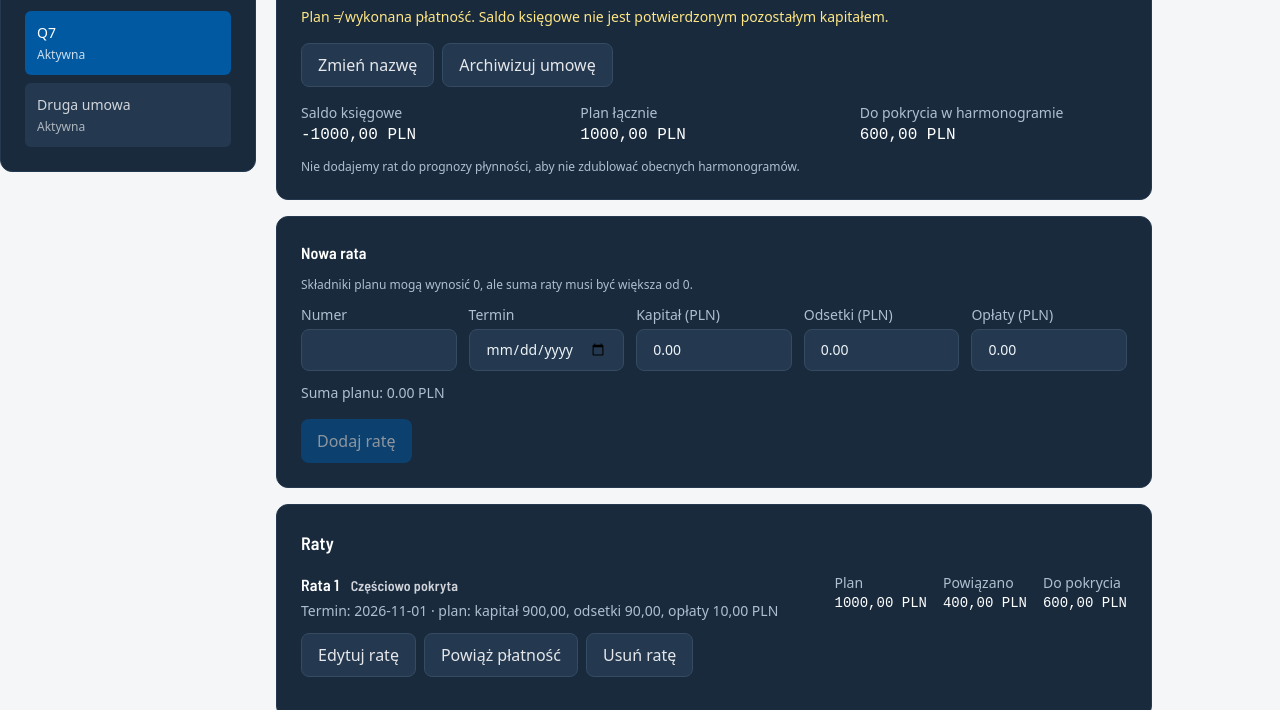
Test: FinanceLoans › resets the create form after success and when selecting another agreement
(page scrolled)
Type "2" into the number field labelled "Numer" at (379, 350), box x1=301 y1=329 x2=457 y2=371
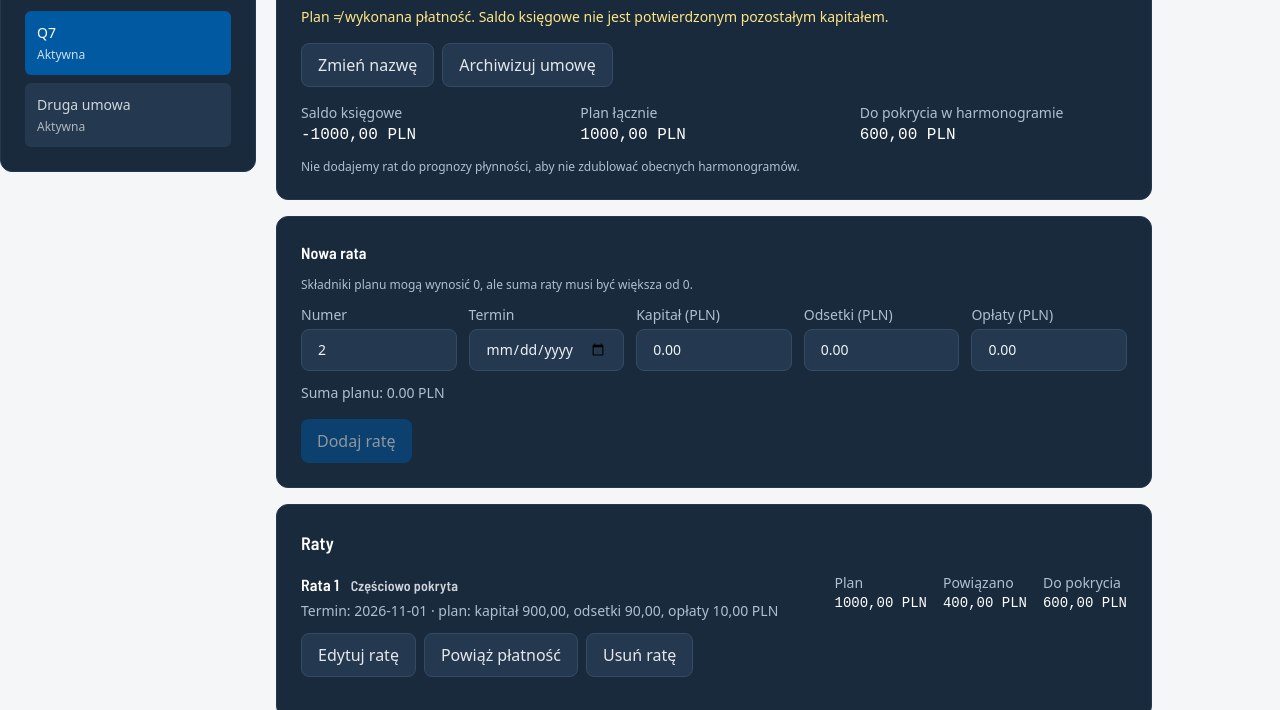
Type "2026-12-01" into the date field labelled "Termin" at (546, 350), box x1=469 y1=329 x2=624 y2=371
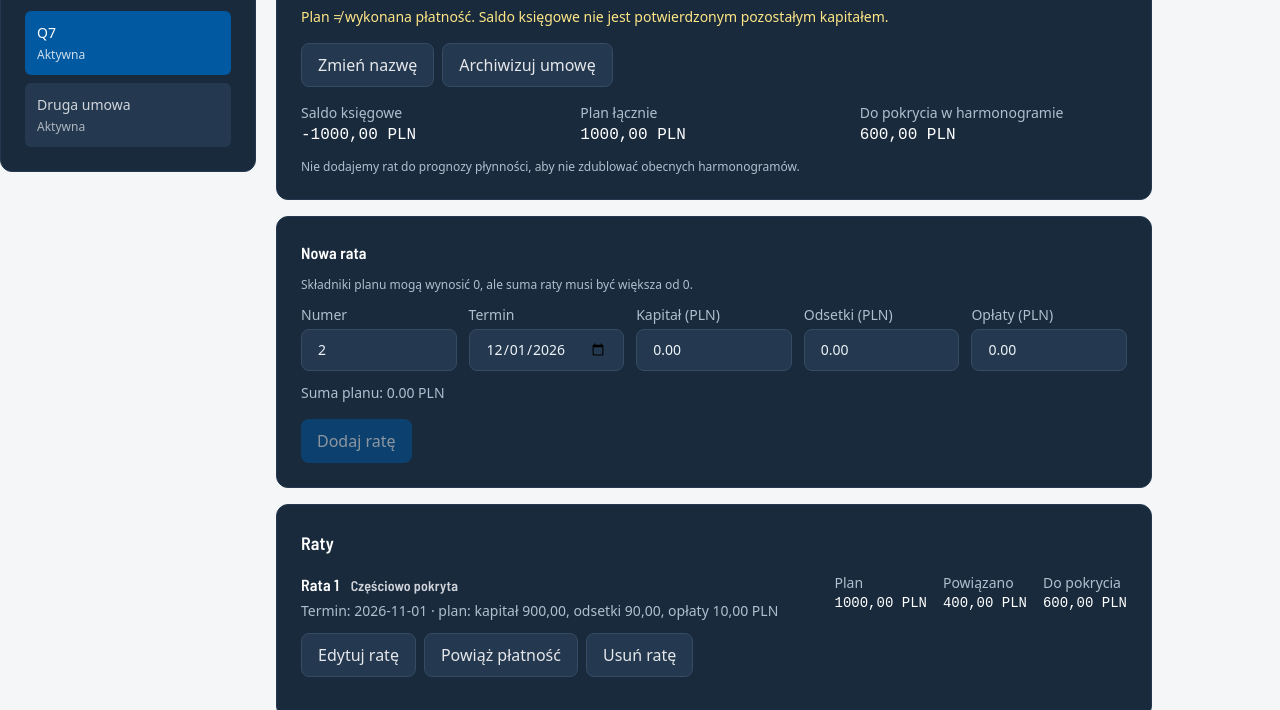
Replace the text in the field labelled "Kapitał (PLN)" with "900" at (714, 350), box x1=636 y1=329 x2=792 y2=371
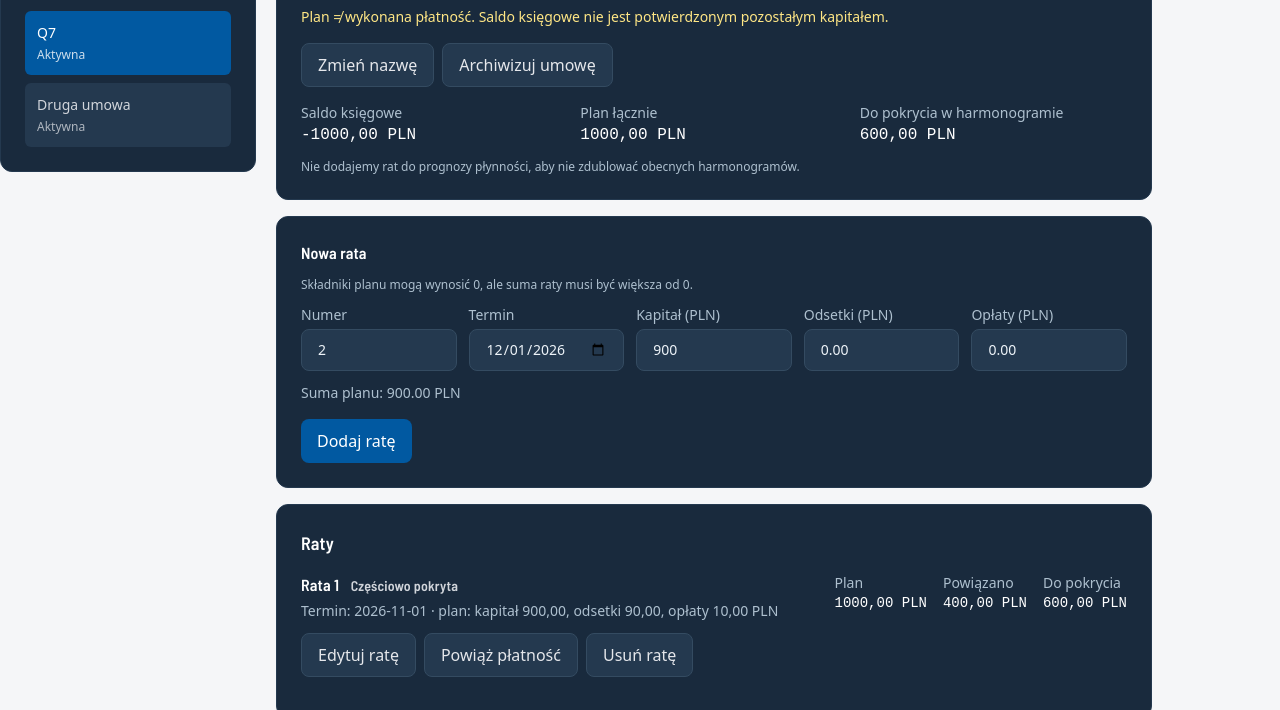
Click the button "Dodaj ratę" at (356, 441), box x1=301 y1=419 x2=412 y2=463
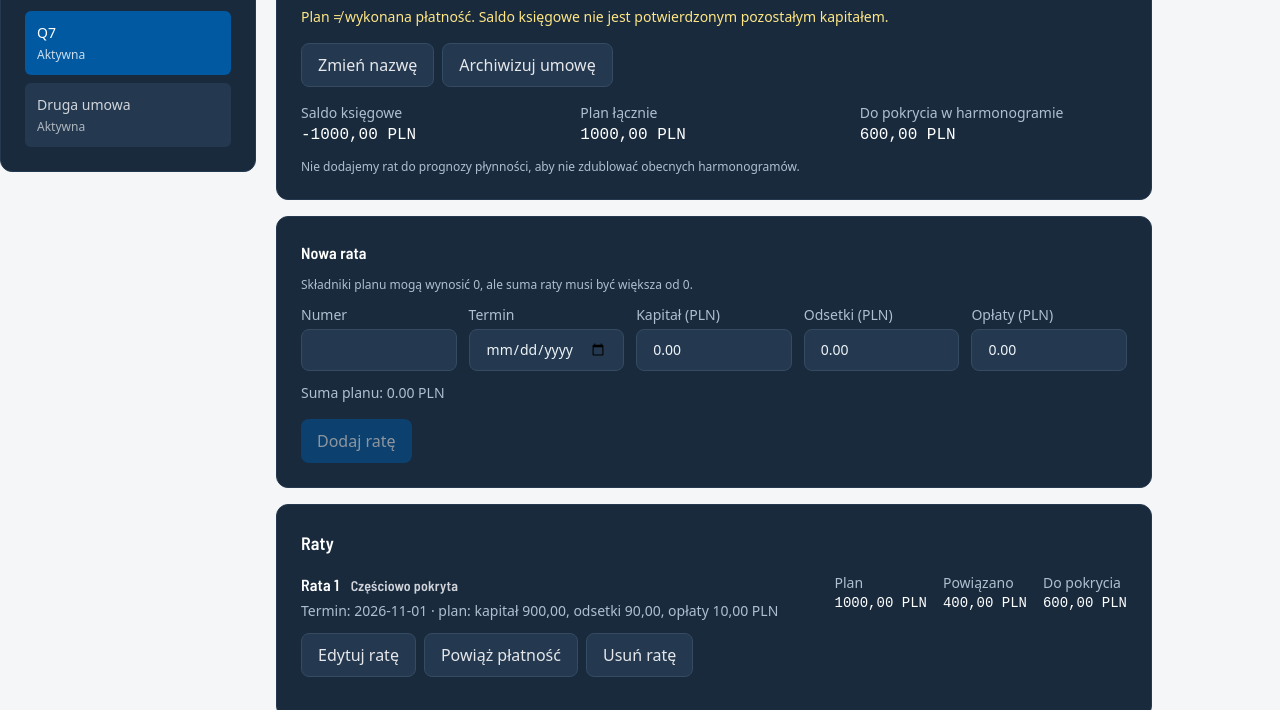
Expected: the field labelled "Kapitał (PLN)" holds "0.00"
Replace the text in the field labelled "Kapitał (PLN)" with "800" at (714, 350), box x1=636 y1=329 x2=792 y2=371
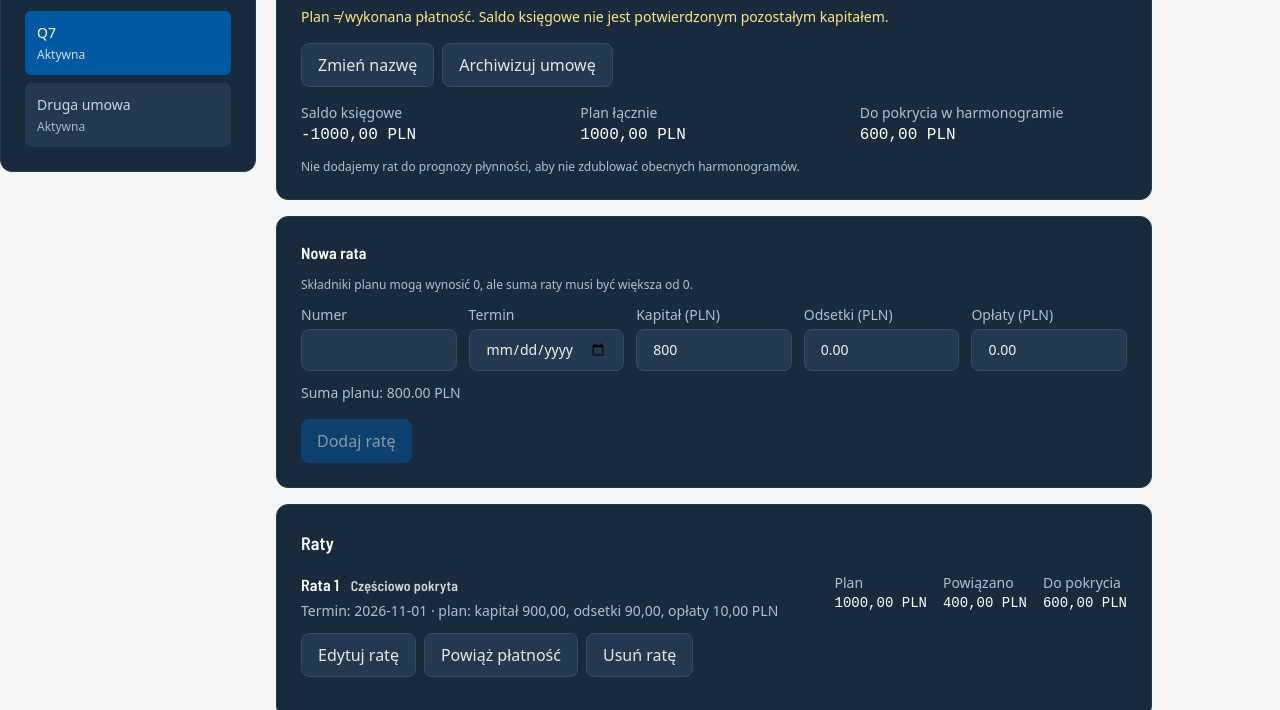
Click the button "Druga umowa Aktywna" at (128, 115), box x1=25 y1=83 x2=231 y2=147
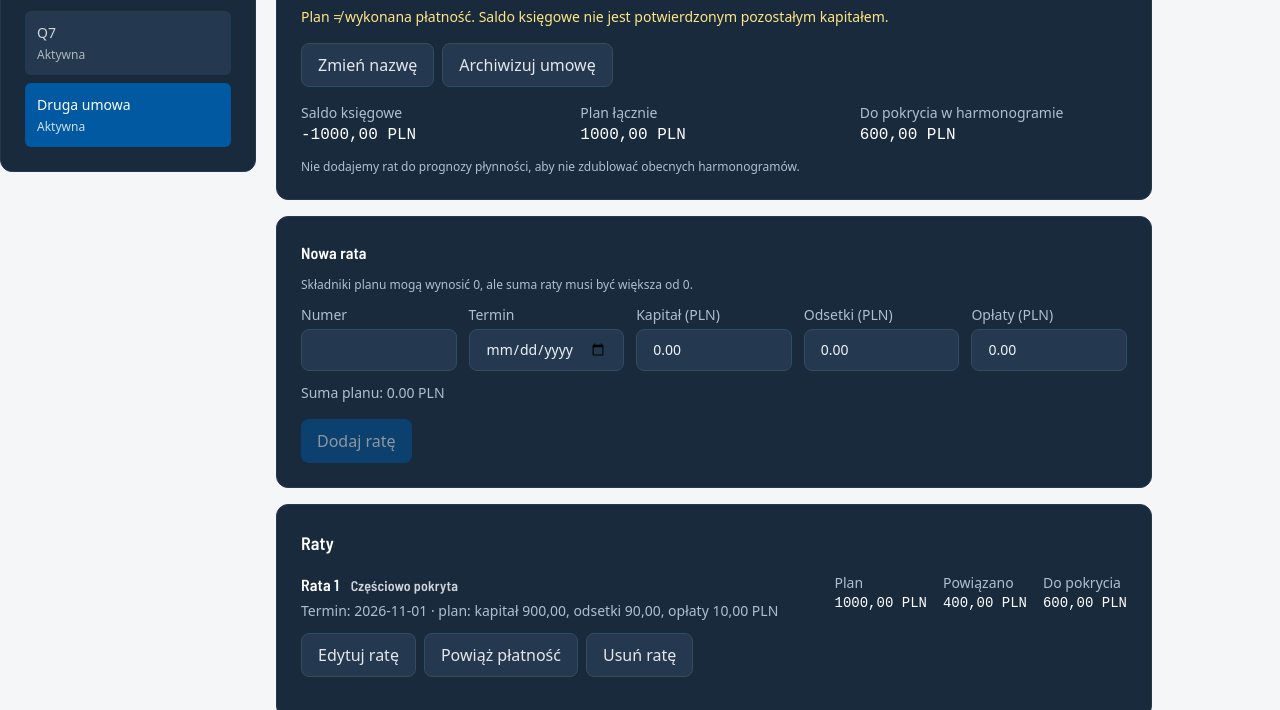
Expected: the field labelled "Kapitał (PLN)" holds "0.00", x1=636 y1=329 x2=792 y2=371
